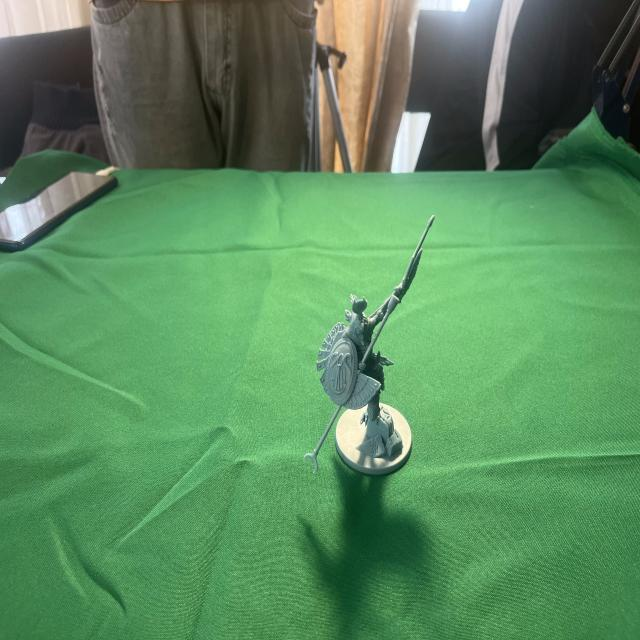isis: (290, 198, 455, 496)
